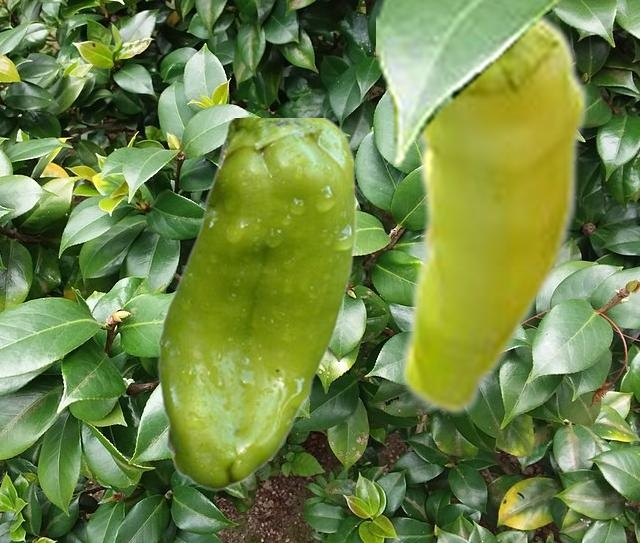green_chili: (398, 13, 589, 415), (157, 118, 355, 490)
